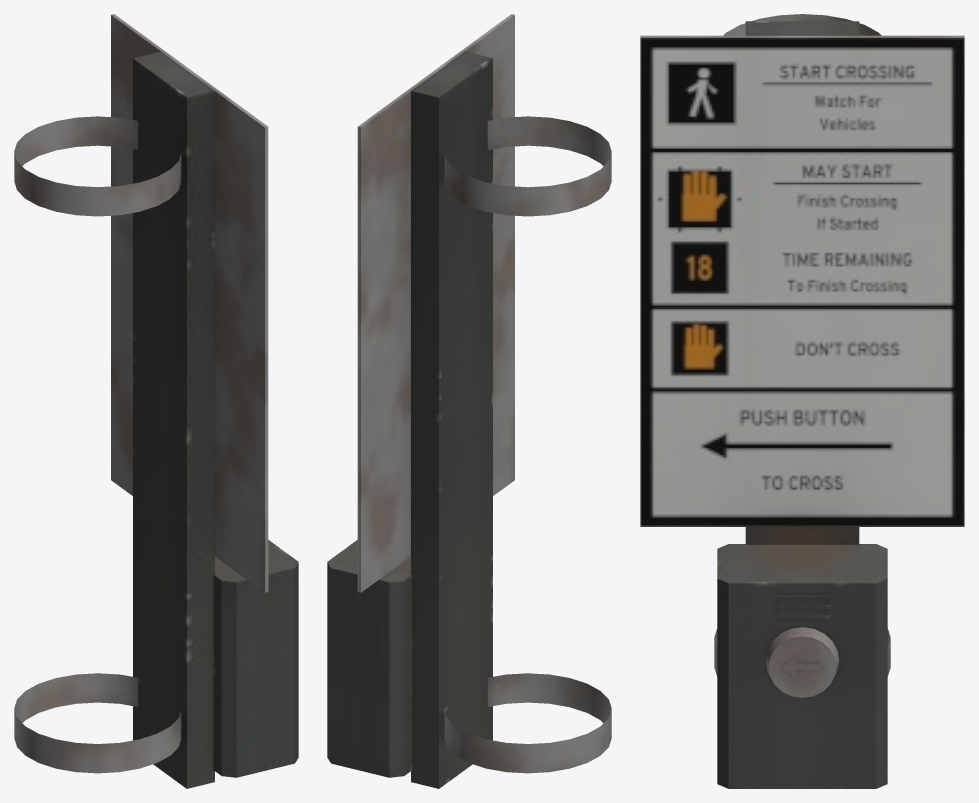
Rendered from pushButtonPipeP-v1.glb.
3 renders of one model, left to right at view 1: azimuth 30°, elevation 25°; view 2: azimuth 150°, elevation 25°; view 3: azimuth 270°, elevation 25°, orthographic. The views are drawn at different scales.
Parts seen in each view (by area): view 1: pushButtonPipeP-v1; view 2: pushButtonPipeP-v1; view 3: pushButtonPipeP-v1.
Part boxes in pixels (box(x1,y1,x2,y2)): pushButtonPipeP-v1: box(14, 14, 298, 788); pushButtonPipeP-v1: box(327, 14, 611, 788); pushButtonPipeP-v1: box(640, 14, 964, 788).
Size of the model in its own units: 0.2158 by 0.566 by 0.2286.
Materials: 1 (1 with a texture image).
